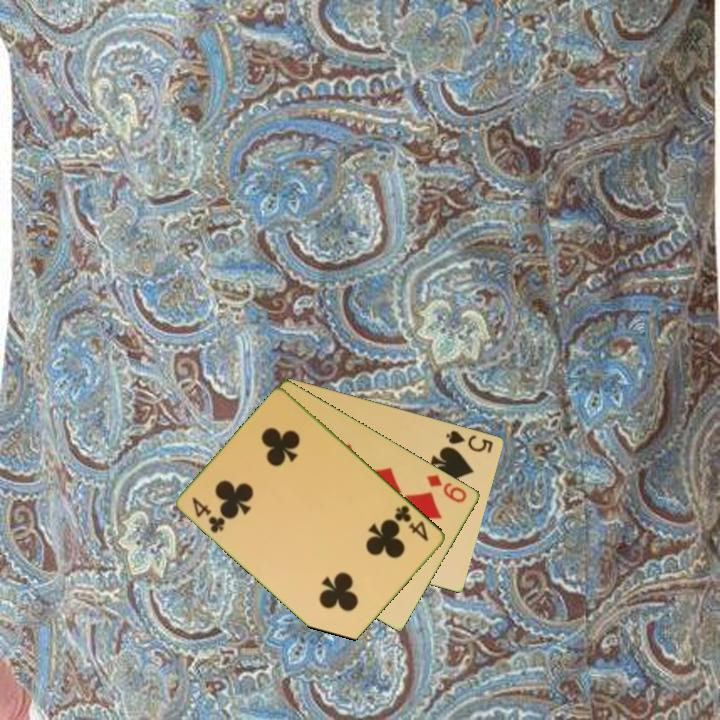4c: (188, 493, 229, 536), (391, 502, 432, 544)
5s: (443, 427, 496, 455)
9d: (423, 471, 470, 506)
